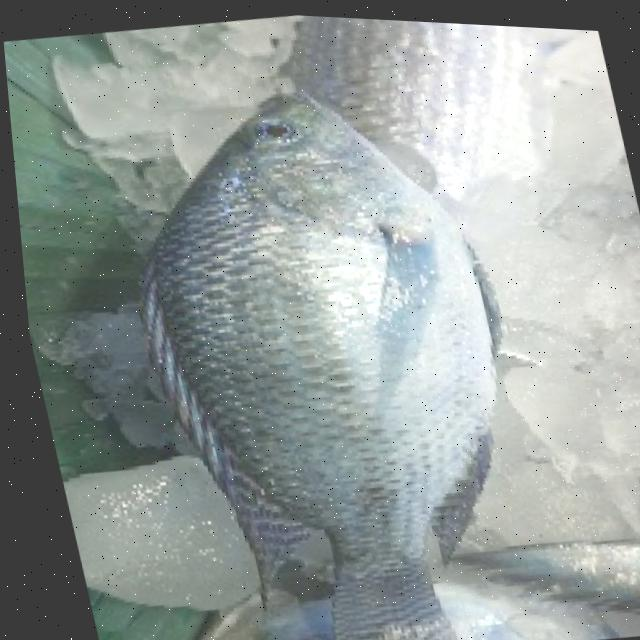Fresh: (114, 32, 574, 640)
